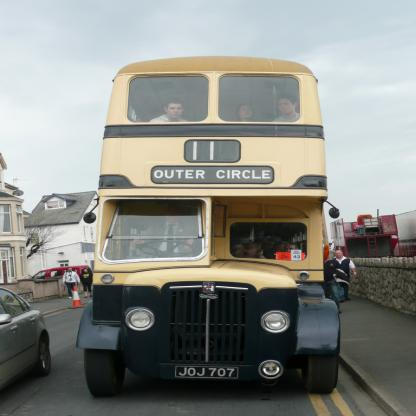car: (1, 293, 57, 388), (30, 267, 93, 279)
